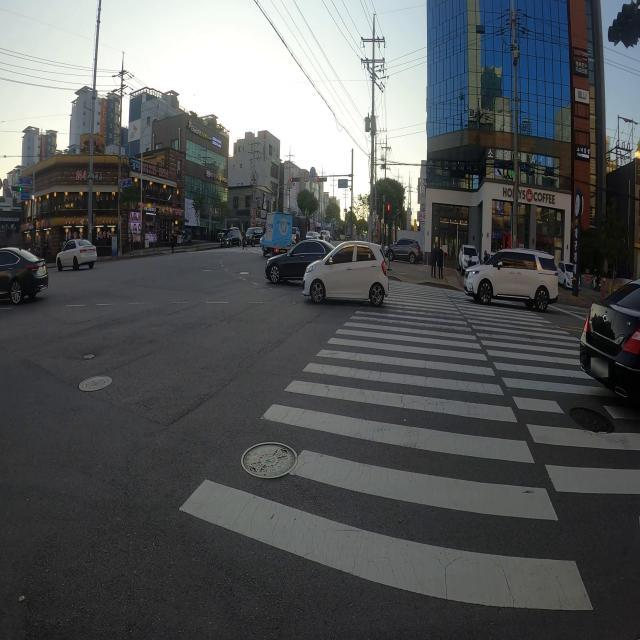crosswalk: (157, 277, 640, 640), (184, 245, 348, 258)
